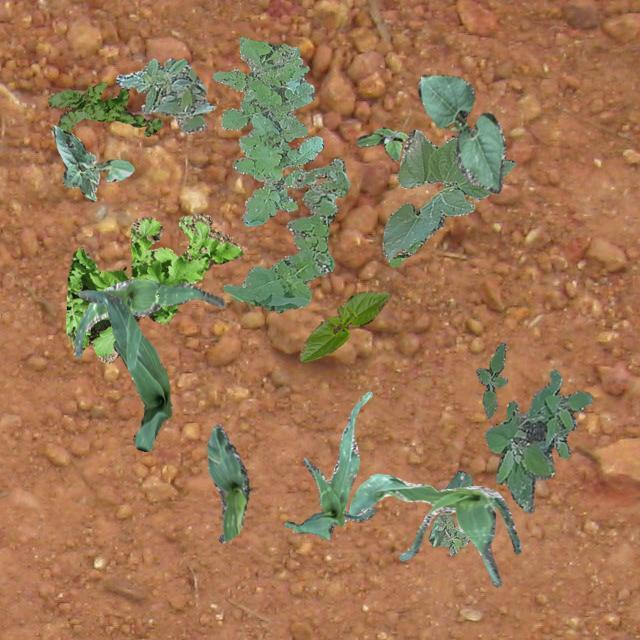crop: (348, 472, 520, 586), (382, 128, 514, 266), (76, 290, 170, 450), (284, 391, 376, 538), (73, 278, 224, 356), (416, 74, 504, 192), (298, 290, 391, 360), (206, 424, 250, 542), (52, 124, 98, 200), (428, 470, 472, 546), (62, 158, 134, 186)
weed: (65, 212, 242, 362), (212, 36, 322, 225), (222, 156, 350, 312), (484, 368, 592, 512), (115, 58, 212, 132), (46, 81, 162, 136), (476, 342, 506, 418), (356, 126, 406, 160), (438, 516, 468, 554)
